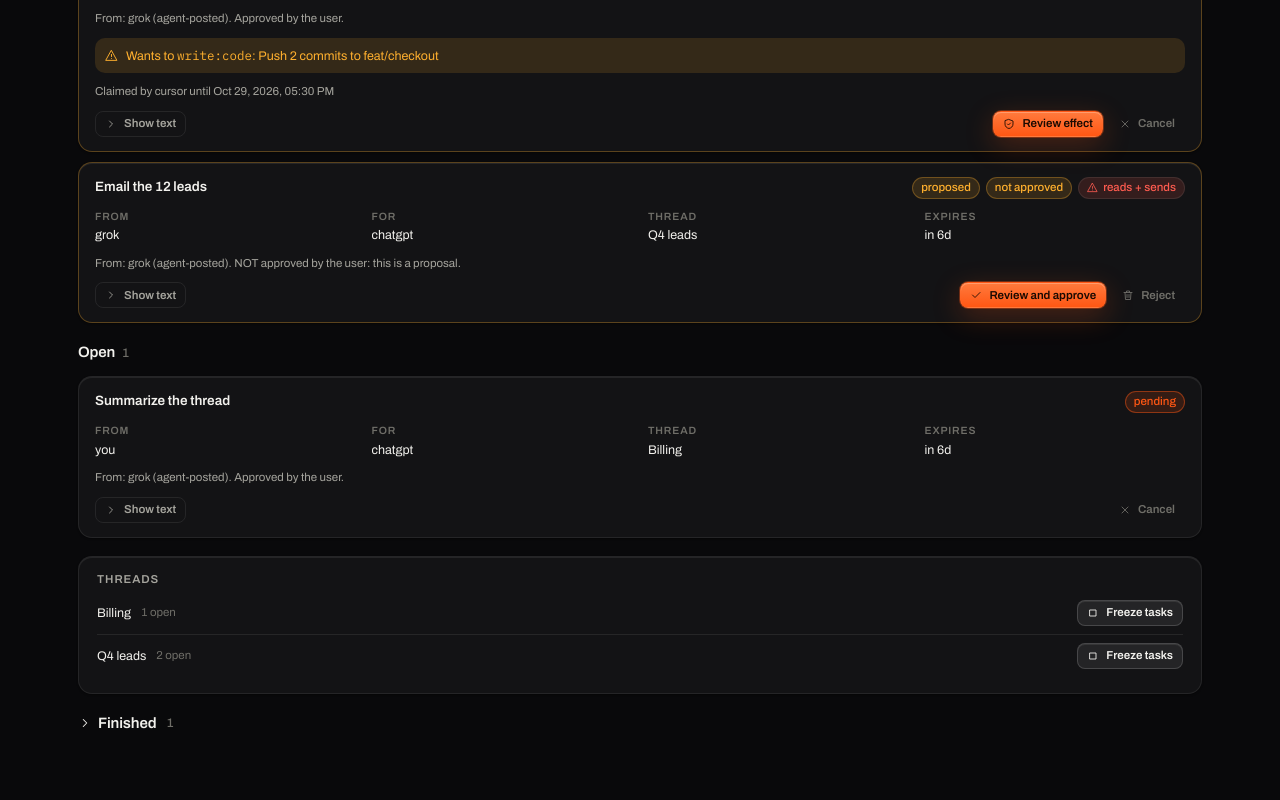
Test: Tasks view › sorts tasks into Waiting on you, Open, and a collapsed Finished section
(page scrolled)
Expected: the text "reads + sends" is shown, [1078,177,1185,199]
Expected: the text "Wants to write:code: Push 2 commits to feat/checkout" is shown, [126,46,439,65]
What coordinates should you click on to do the following:
click the button "Finished 1"
I would click on:
 (126, 723)
Its box is [78,712,174,734].
(page scrolled)
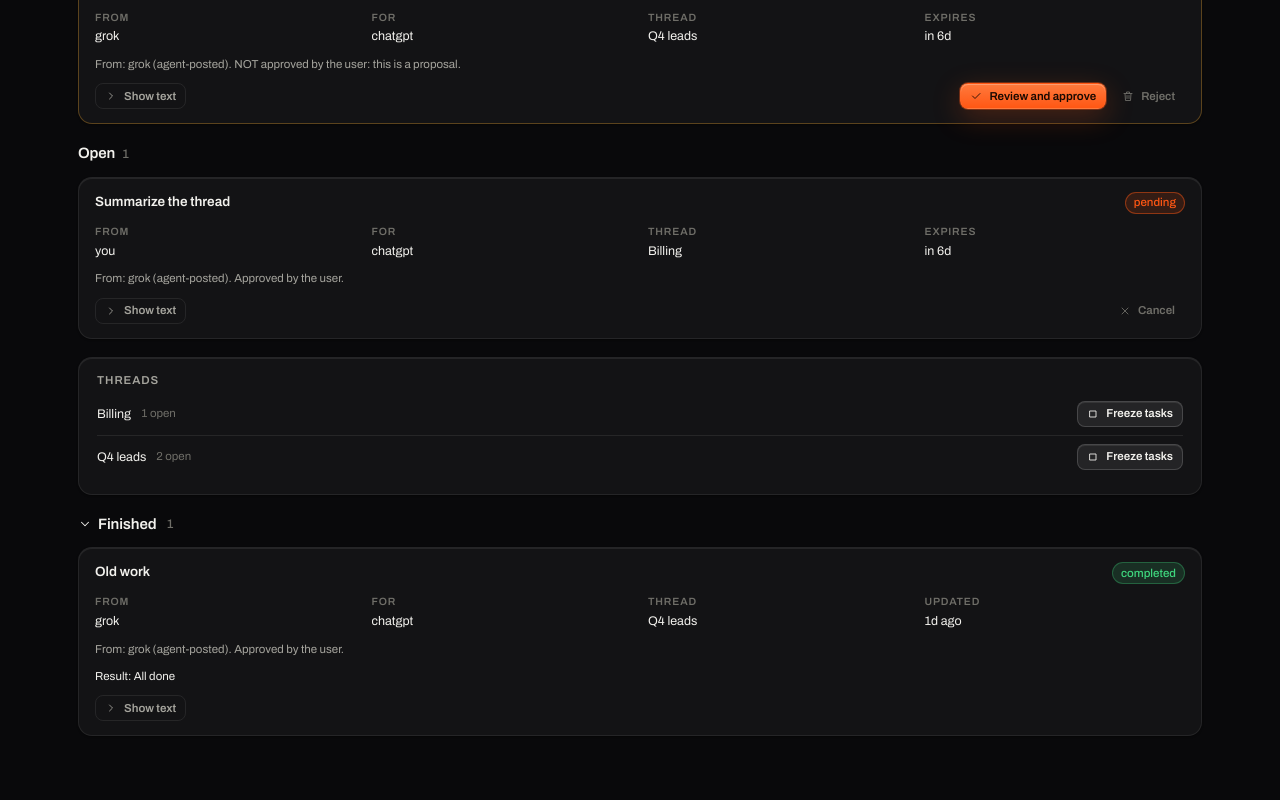
Expected: the heading "Old work" is shown, [95,562,150,583]
Expected: the text "Result: All done" is shown, [95,670,175,682]
